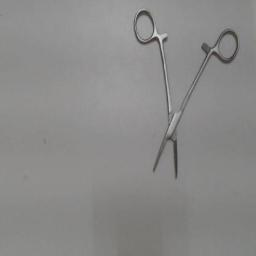Mayo Needle Holder: (130, 4, 242, 182)
